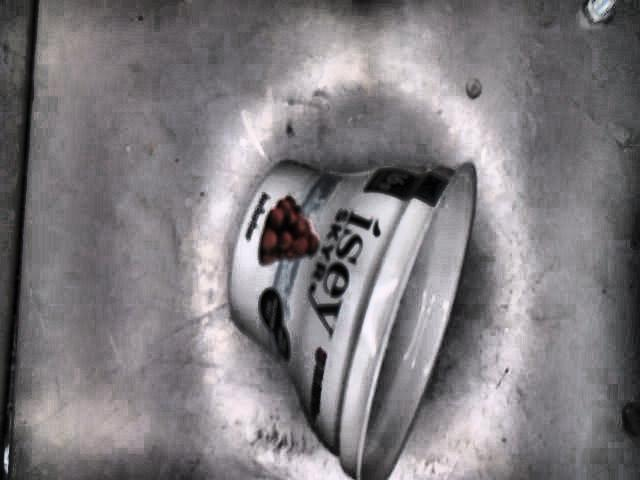Plastic: (227, 157, 480, 480)
